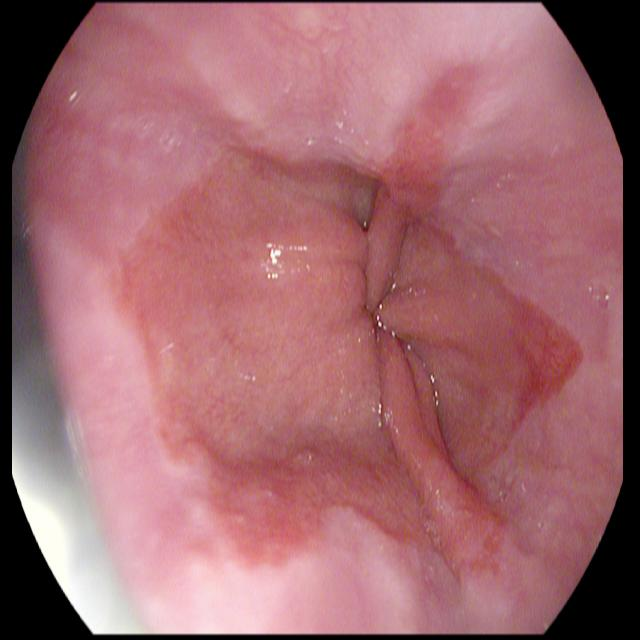esophagitis: (106, 36, 596, 590)
